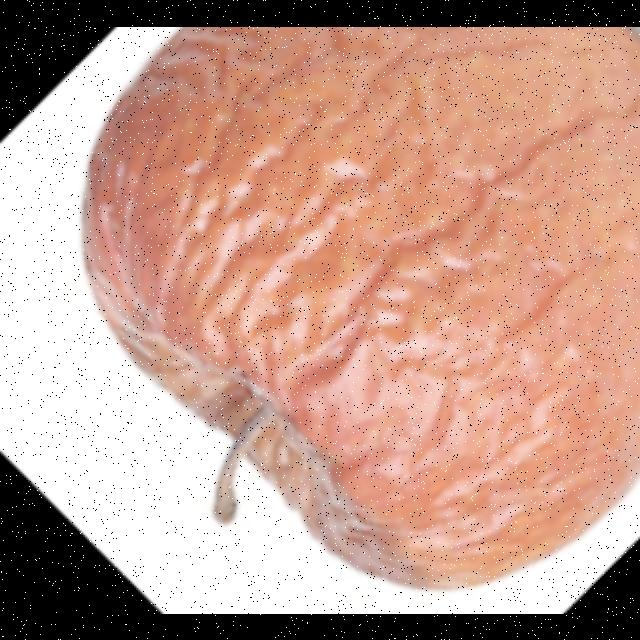Apel Tidak Segar: (31, 26, 640, 614)
